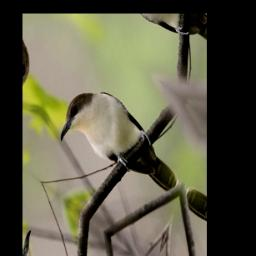Cuckoo: (57, 69, 189, 225)
